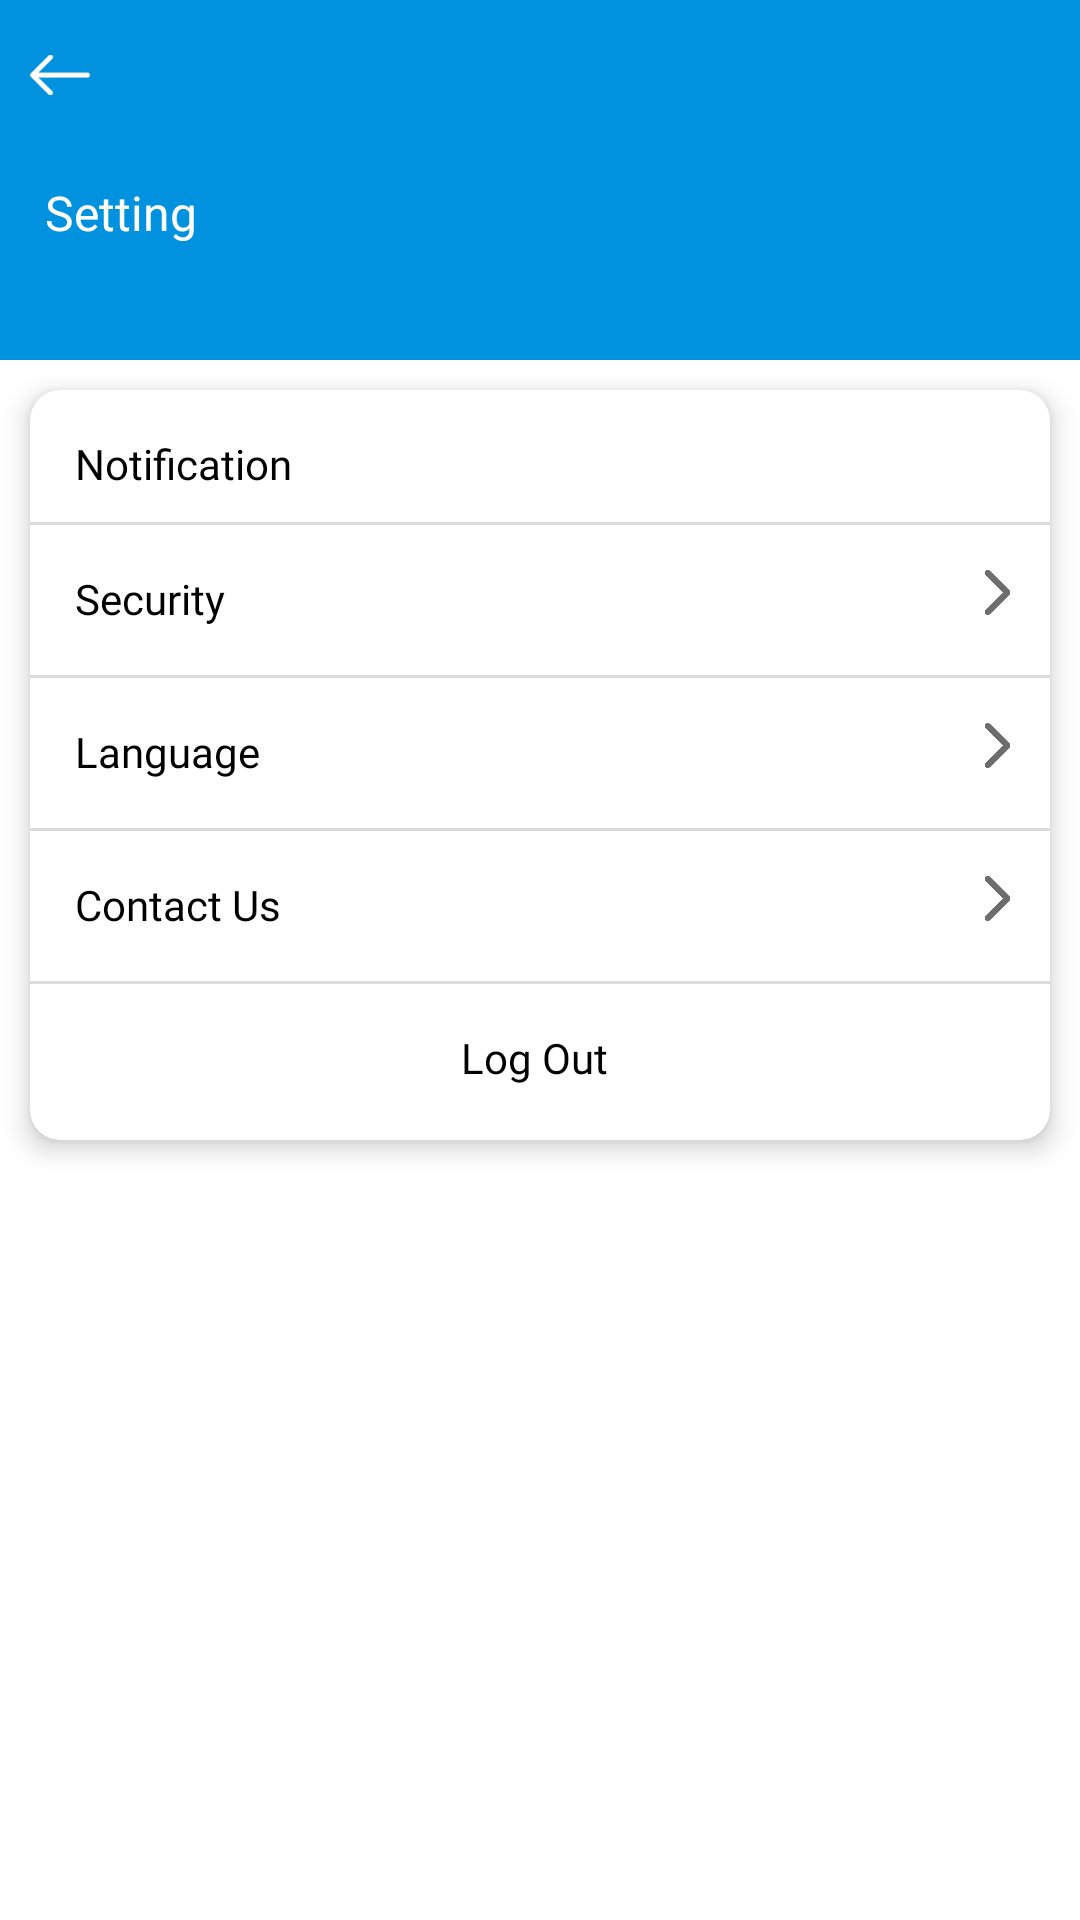

Icons on this 1080×1920 Android screen, each with the point to tap as (x=x, y=y):
back: (x=60, y=75)
